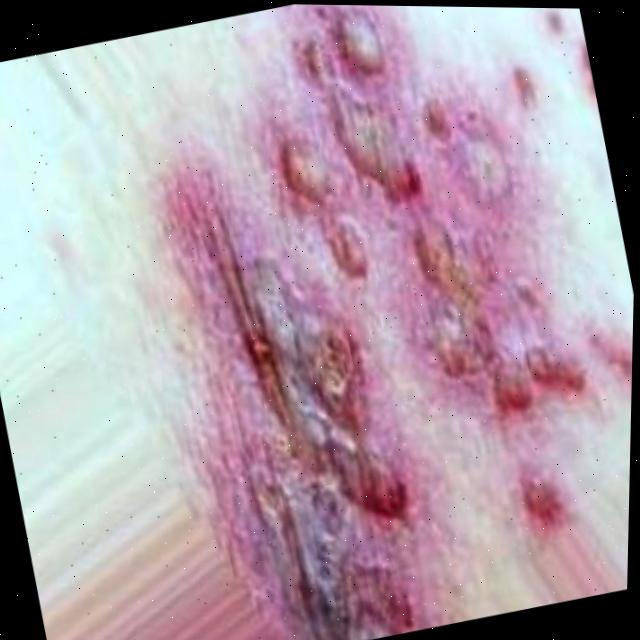Shingles: (119, 2, 640, 640)
